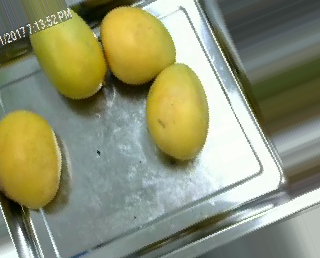Mango: (29, 9, 111, 105), (144, 59, 214, 165), (96, 5, 179, 85), (0, 107, 63, 212)
